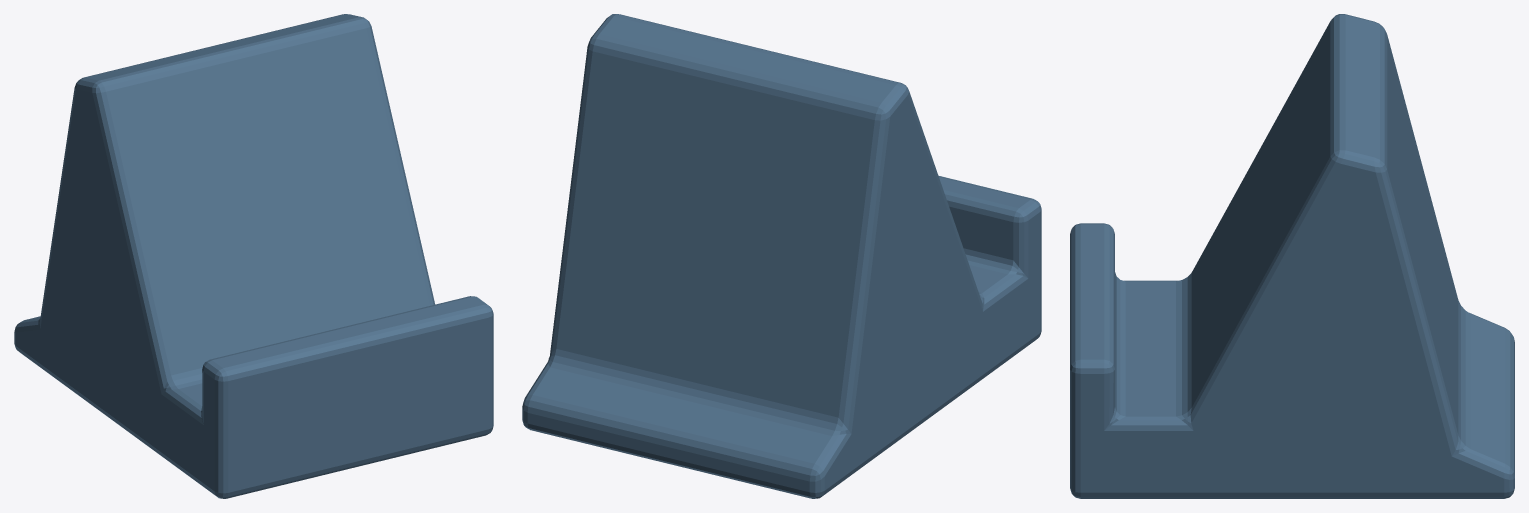
File: phone-stand.glb
3 renders of one model, left to right at view 1: azimuth 30°, elevation 25°; view 2: azimuth 150°, elevation 25°; view 3: azimuth 270°, elevation 25°, orthographic. The views are drawn at different scales.
Visible parts, largest first — view 1: Подставка для телефона; view 2: Подставка для телефона; view 3: Подставка для телефона.
Part boxes in pixels (<box>): Подставка для телефона: <box>14,14,493,498</box>; Подставка для телефона: <box>522,14,1041,498</box>; Подставка для телефона: <box>1070,14,1514,498</box>.
Size of the model in its own units: 0.76 by 0.8541 by 0.99.
